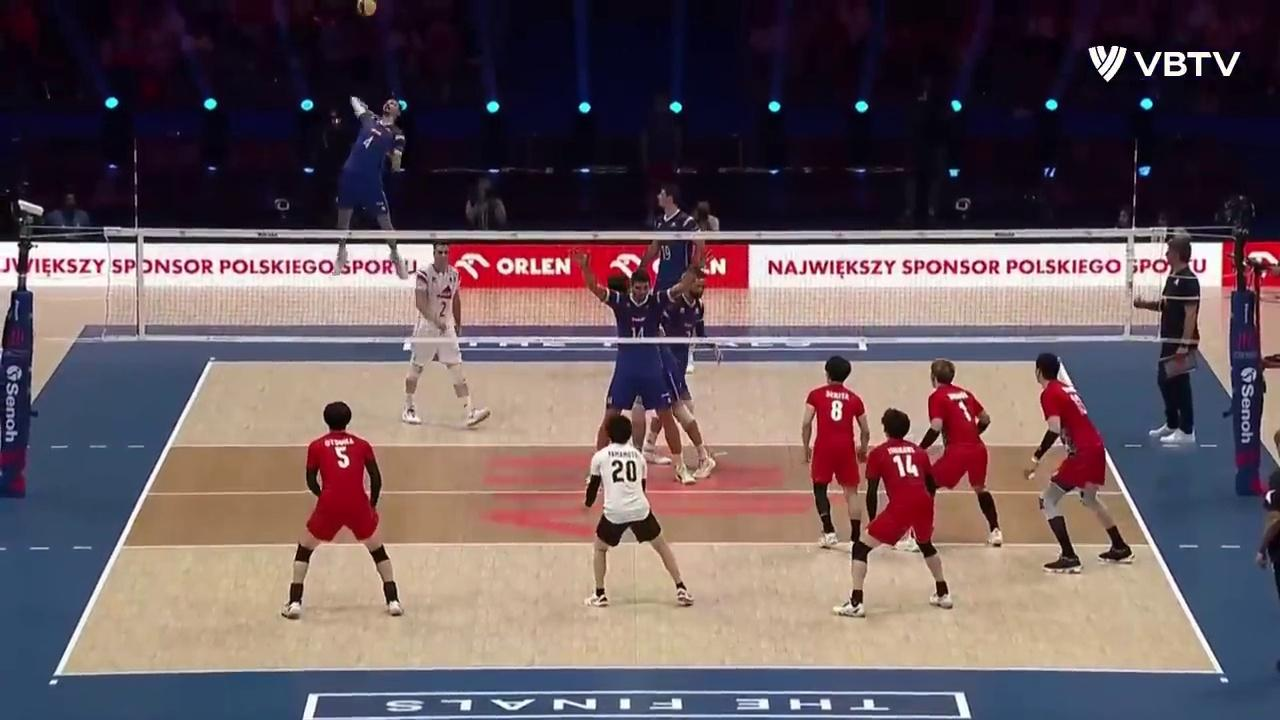ball: (358, 0, 377, 17)
